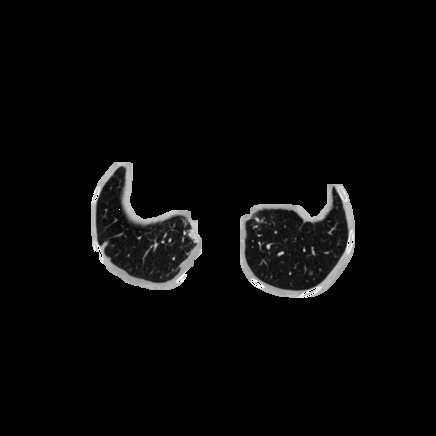PN: (309, 271, 313, 275)
